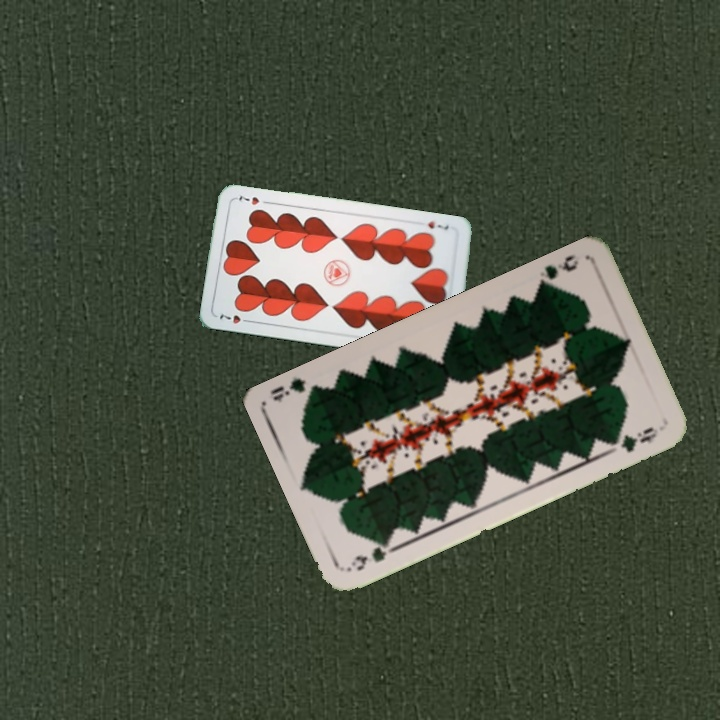G9: (535, 250, 581, 291), (347, 537, 393, 574)
H7: (215, 310, 254, 326), (418, 217, 451, 232)
